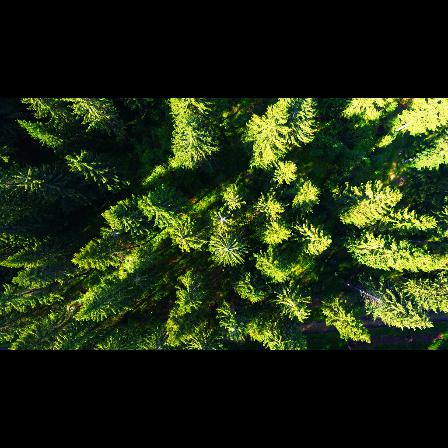Sick: (208, 231, 247, 266), (122, 270, 154, 290), (214, 211, 234, 228)
